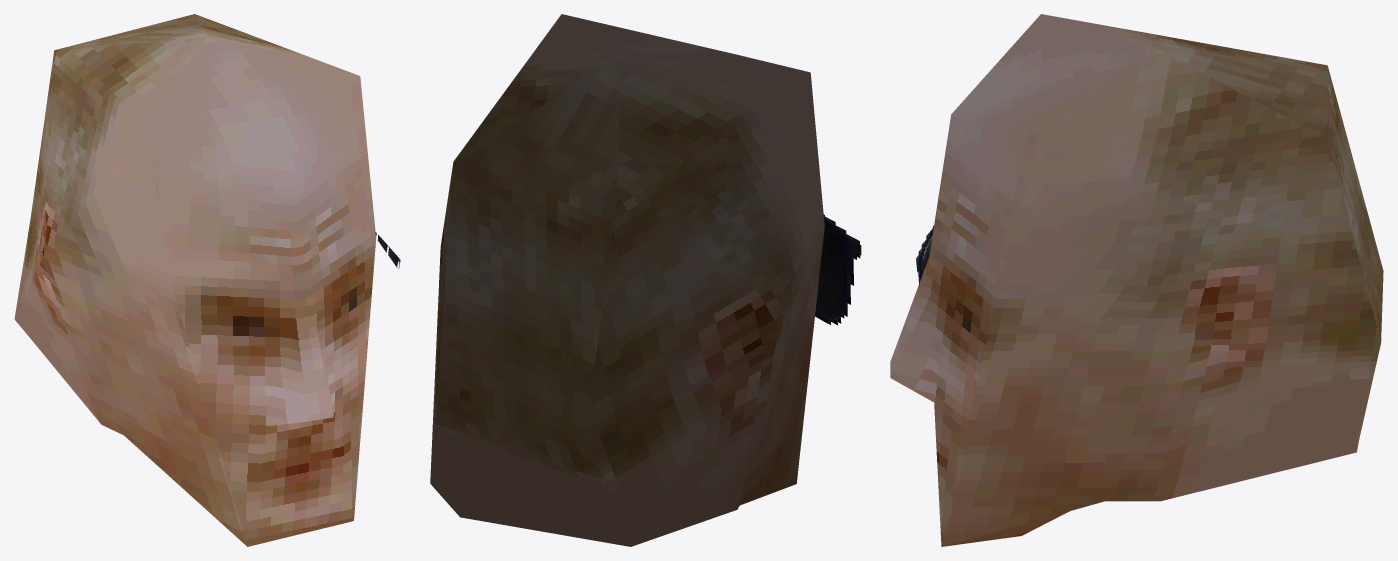
File: CheadgrahamZ.obj
3 renders of one model, left to right at view 1: azimuth 30°, elevation 25°; view 2: azimuth 150°, elevation 25°; view 3: azimuth 270°, elevation 25°, orthographic. The views are drawn at different scales.
Bounding box in the file's own units: 154 × 223 × 203.
Materials: 9 (9 with a texture image).
